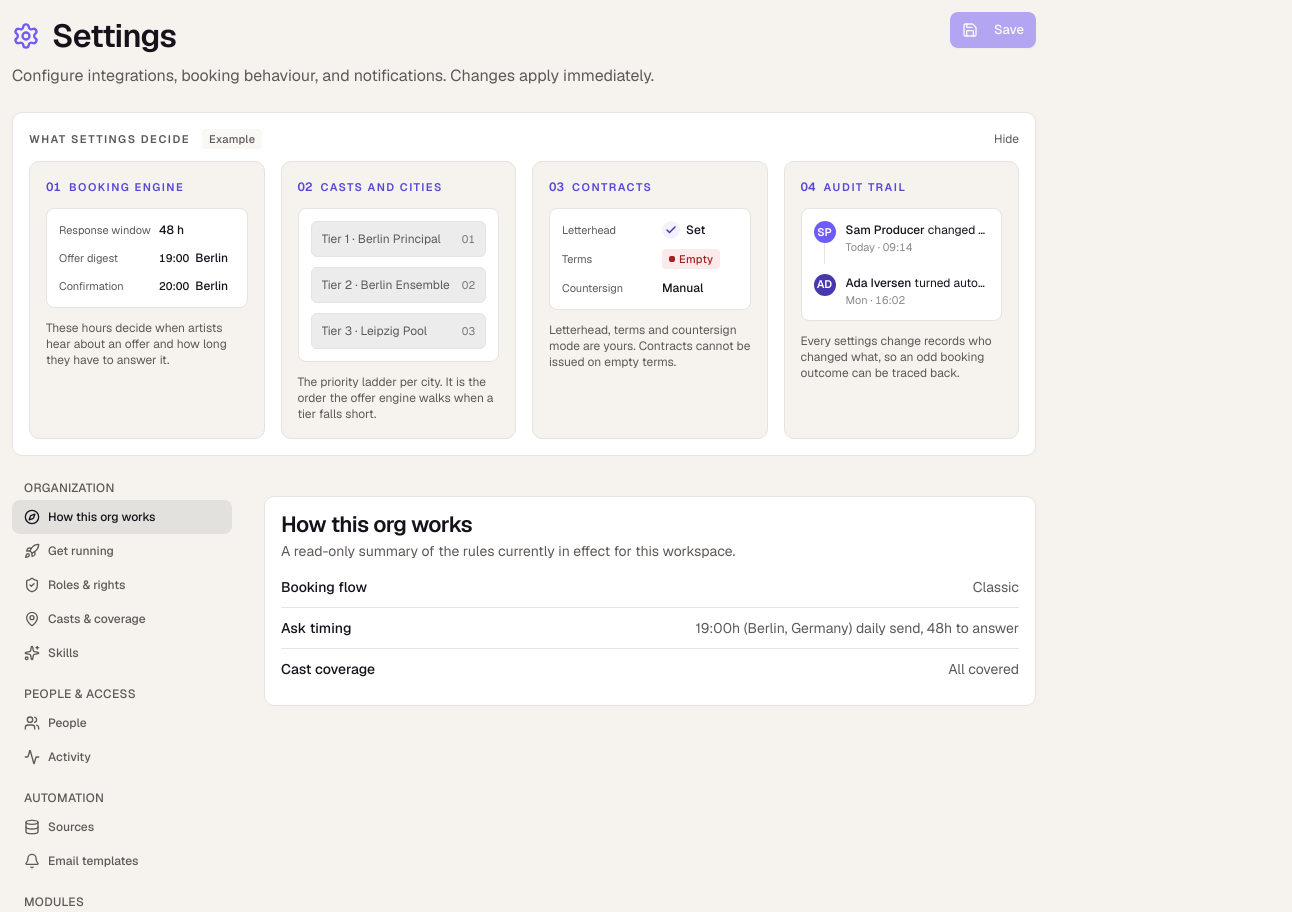
Test: SettingsPage grouped vertical nav › renders group headings and switches content
Expected: the text "Automation" is shown, x1=24 y1=790 x2=104 y2=806
Expected: the text "Organization" is shown, x1=24 y1=480 x2=115 y2=496
# Switching a section swaps the visible content.
Press the mouse on the tab "Casts & coverage" at (122, 619), box x1=12 y1=602 x2=232 y2=636
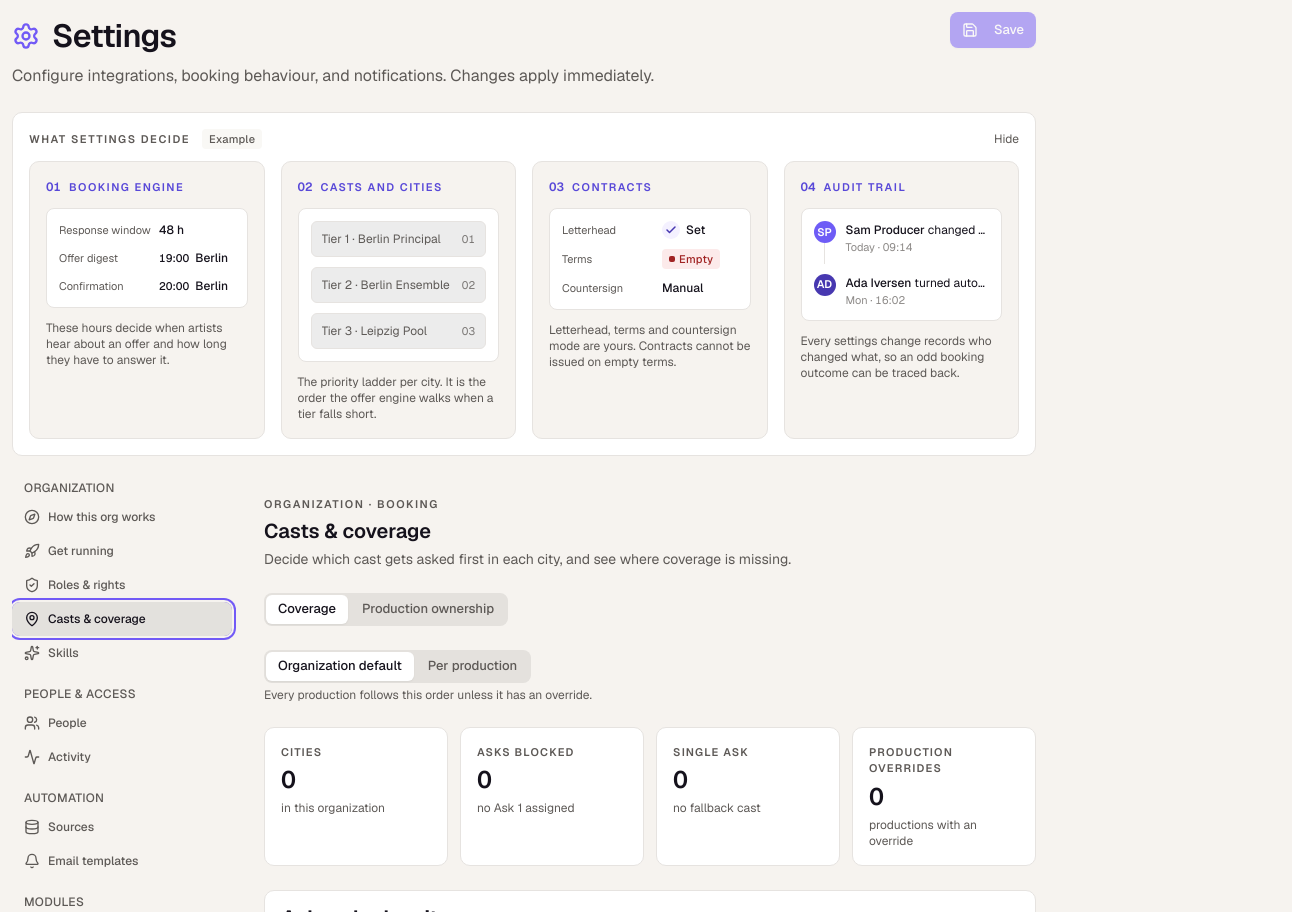
Now the tab "Casts & coverage" is selected, box x1=12 y1=602 x2=232 y2=636
